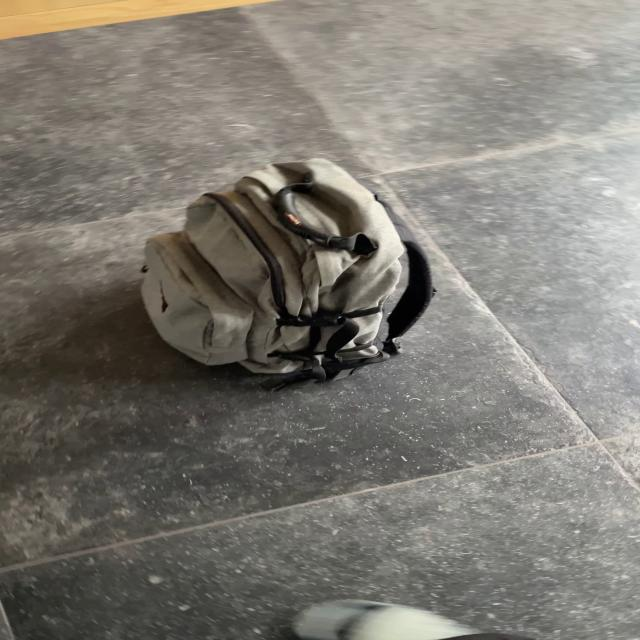backpack: (123, 155, 442, 385)
